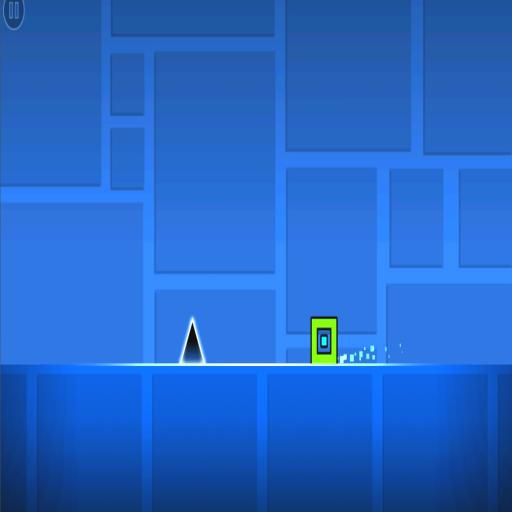player: (311, 317, 337, 363)
spike: (180, 318, 205, 363)
